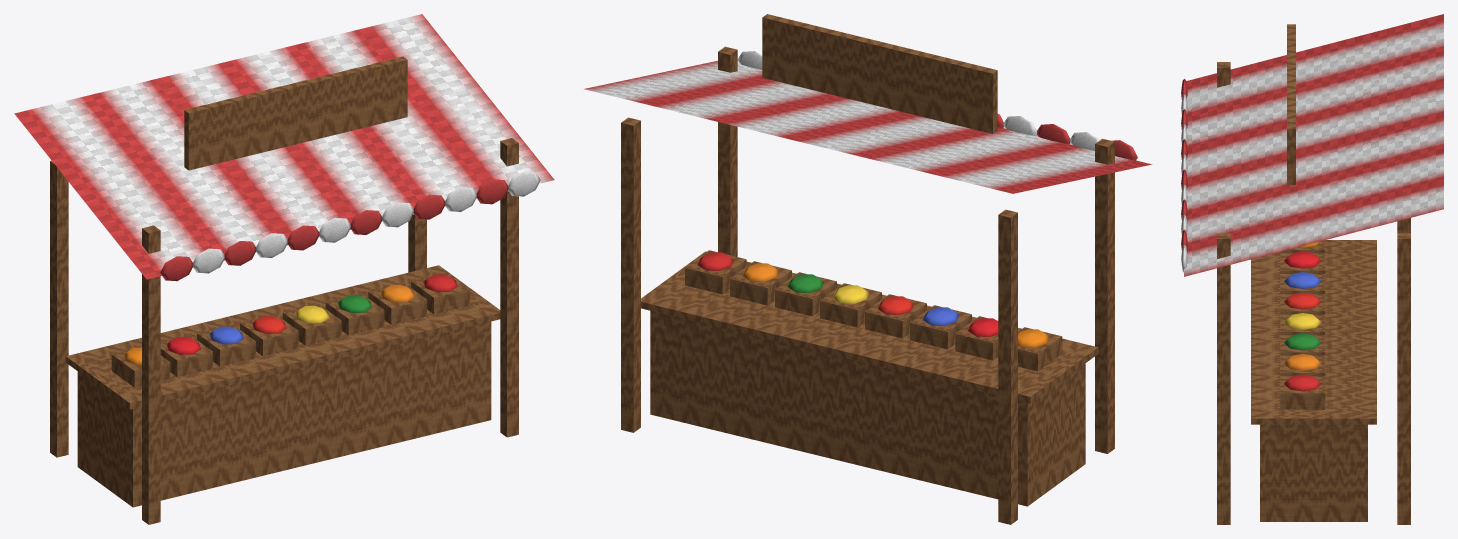
Rendered from stall.gltf.
3 views of the same model, side by side, from view 1: azimuth 30°, elevation 25°; view 2: azimuth 150°, elevation 25°; view 3: azimuth 270°, elevation 25° (orthographic). The views are drawn at different scales.
Size of the model in its own units: 4.1 by 3.53 by 2.33.
Materials: 3 (2 with a texture image).
